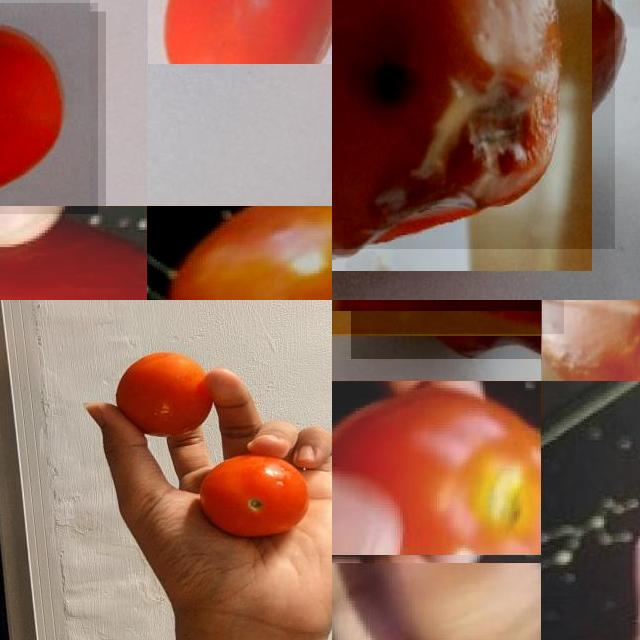Fresh Tomato: (332, 381, 541, 555), (0, 3, 98, 214), (147, 206, 332, 300), (148, 0, 332, 64)
Rotten Tomato: (332, 0, 615, 248), (0, 206, 147, 300)
